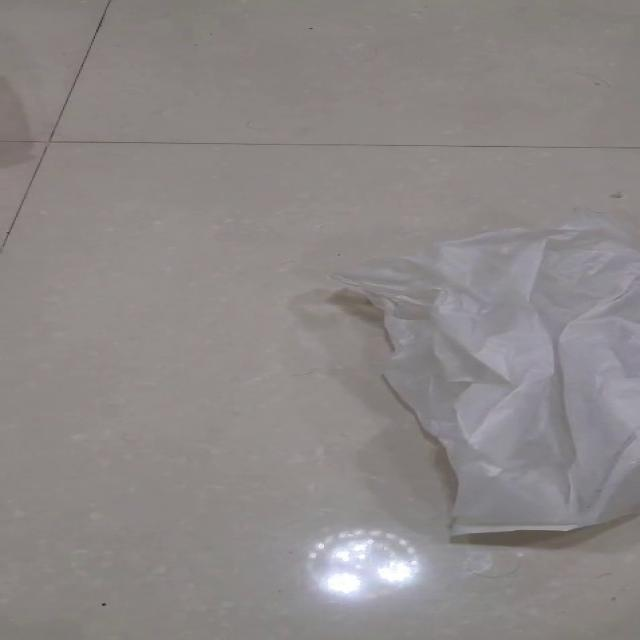plastic: (326, 219, 638, 537)
